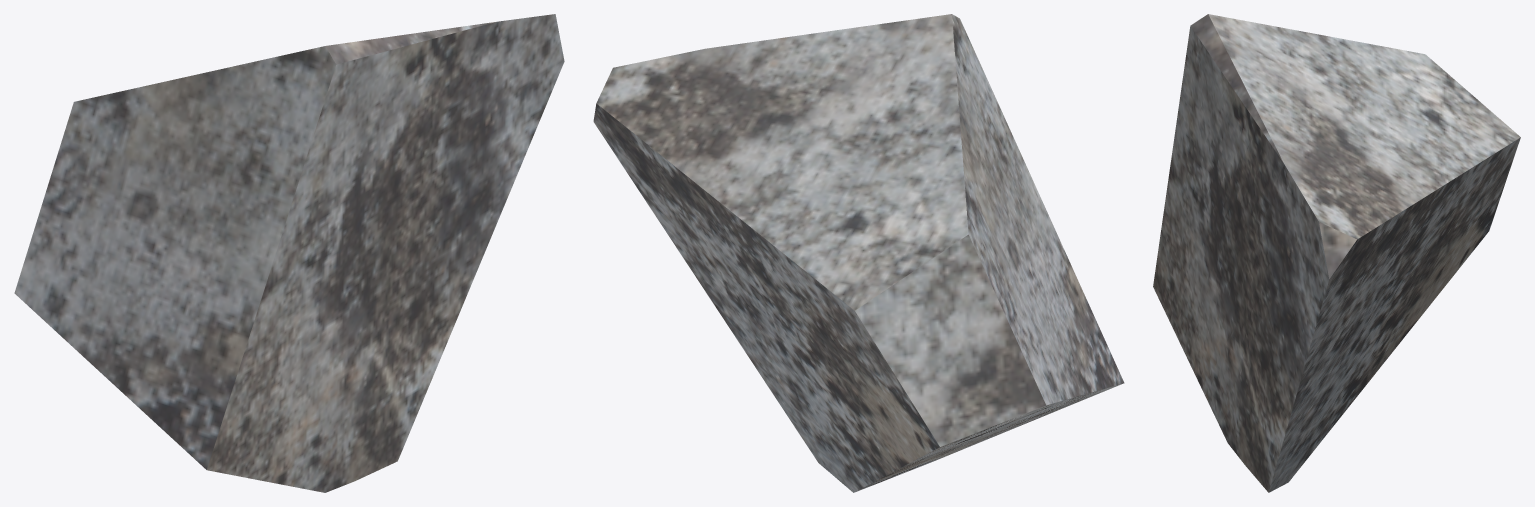
Rendered from Asteroid_Large_001_02_008_03_021.fbx.
3 views of the same model, side by side, from view 1: azimuth 30°, elevation 25°; view 2: azimuth 150°, elevation 25°; view 3: azimuth 270°, elevation 25° (orthographic). The views are drawn at different scales.
Visible parts, largest first — view 1: Asteroid_Large_001_02_008_03_021; view 2: Asteroid_Large_001_02_008_03_021; view 3: Asteroid_Large_001_02_008_03_021.
Part boxes in pixels (x1,y1,x2,y2): Asteroid_Large_001_02_008_03_021: (14,14,564,492); Asteroid_Large_001_02_008_03_021: (593,14,1124,492); Asteroid_Large_001_02_008_03_021: (1153,14,1520,492).
Size of the model in its own units: 7.85 by 7.02 by 5.3.
